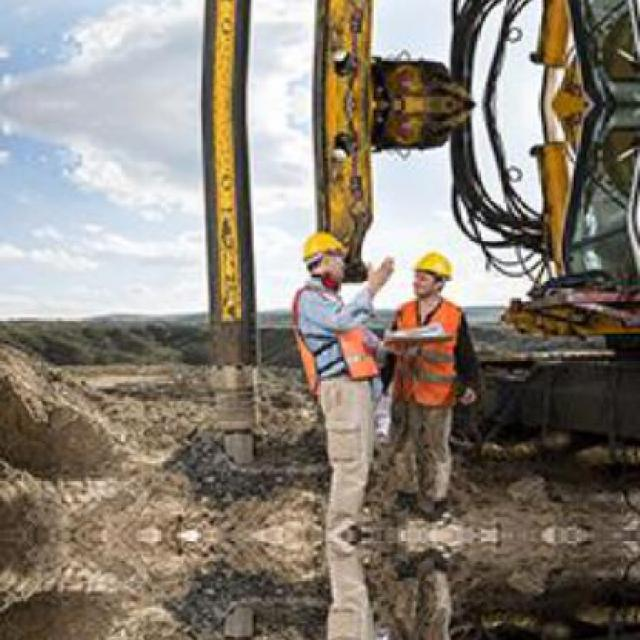helmet: (298, 226, 348, 286), (407, 243, 455, 302)
